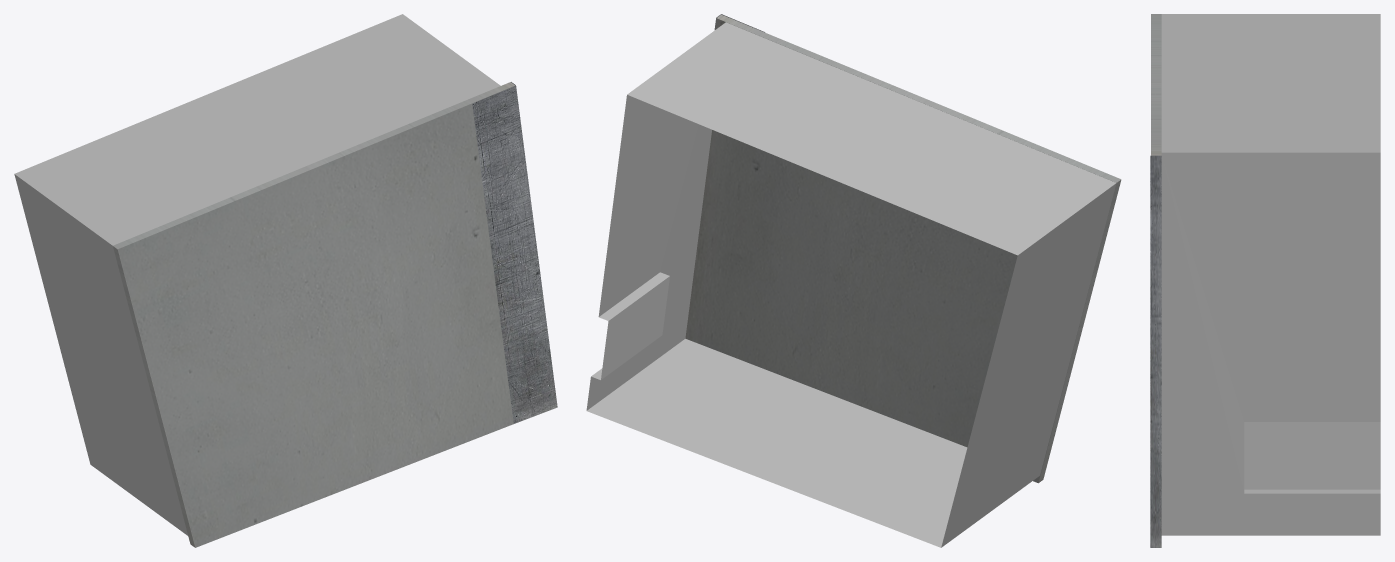
Rendered from nunne-3.obj.
The picture shows the model from 3 angles, left to right: view 1: azimuth 30°, elevation 25°; view 2: azimuth 150°, elevation 25°; view 3: azimuth 270°, elevation 25°; orthographic projection. The views are drawn at different scales.
Parts seen in each view (by area): view 1: Nunne_3; view 2: Nunne_3; view 3: Nunne_3.
Boxes of the visible parts, x1,y1,x2,y2 form: Nunne_3: [14, 14, 557, 547]; Nunne_3: [586, 14, 1121, 547]; Nunne_3: [1150, 14, 1380, 547].
Bounding box in the file's own units: 10.73 × 8.96 × 4.37.
